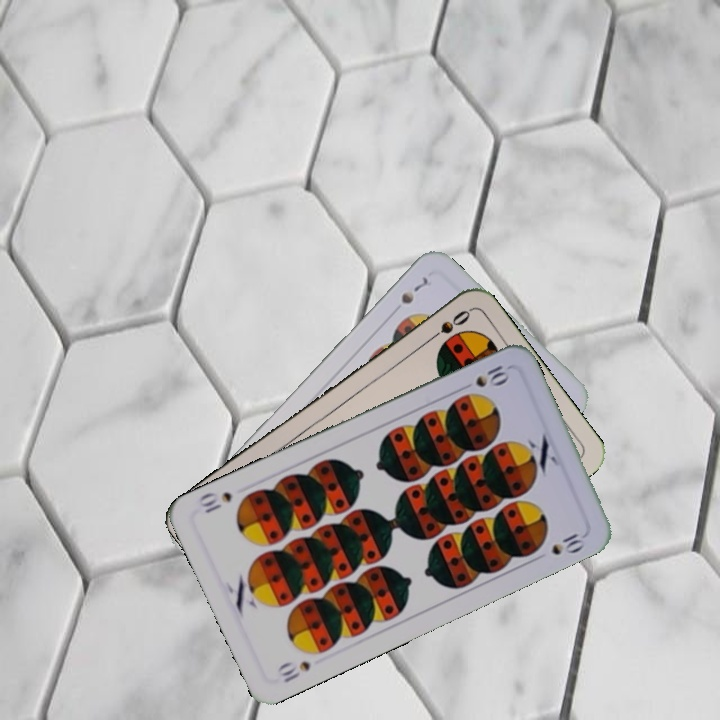S10: (471, 360, 512, 391), (273, 657, 313, 686)
S7: (397, 272, 431, 307)
SO: (421, 305, 473, 346)
